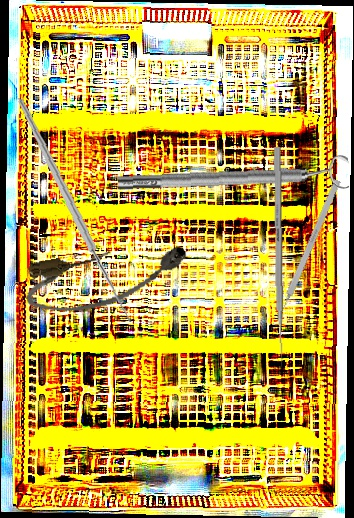Cannula: (20, 236, 194, 320)
Fixation Ring: (117, 153, 350, 201)
Hook Surgical: (1, 98, 160, 323), (275, 179, 341, 322)
Pusher: (273, 146, 285, 368)
